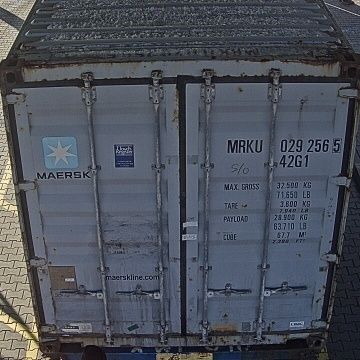serial_id: (226, 138, 340, 154)
